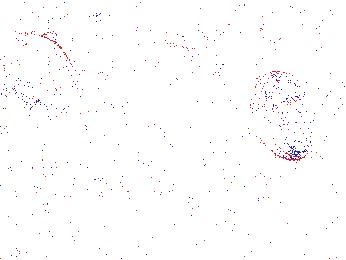moon jellyfish: (249, 70, 319, 162), (130, 50, 211, 125), (1, 33, 77, 103), (40, 69, 130, 115), (166, 49, 223, 87)
